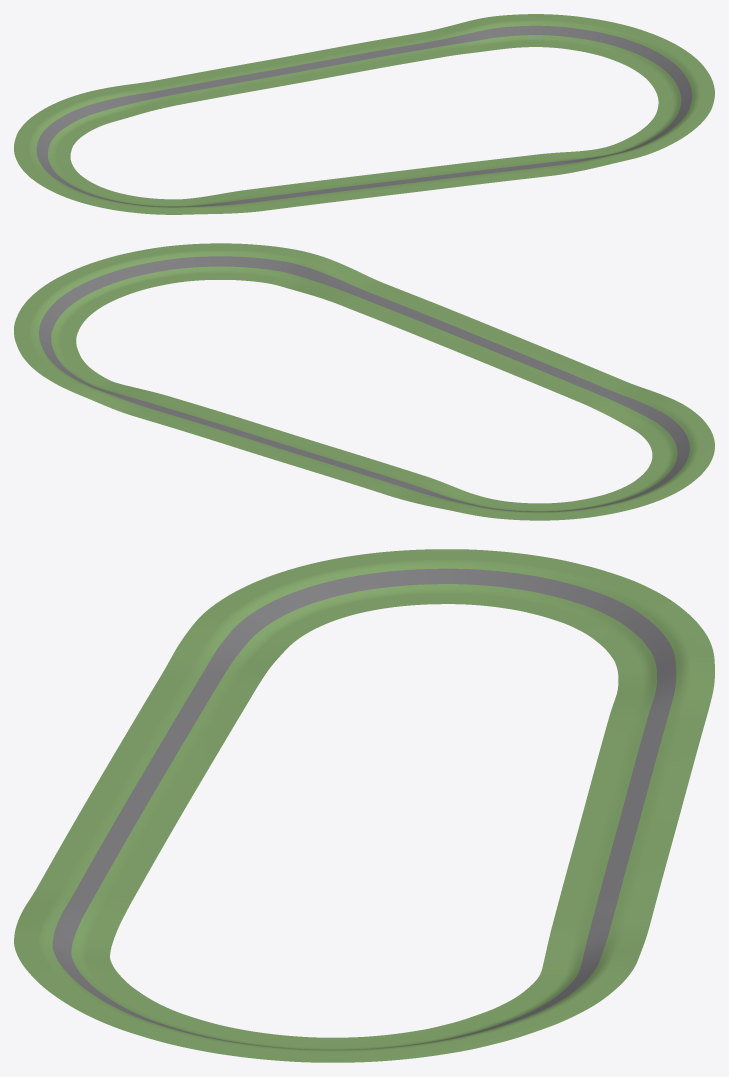
The model's file is road_mesh.glb.
The picture shows the model from 3 angles, top to bottom: view 1: azimuth 30°, elevation 25°; view 2: azimuth 150°, elevation 25°; view 3: azimuth 270°, elevation 25°; orthographic projection. The views are drawn at different scales.
Parts seen in each view (by area): view 1: road_04, road_03, road_07, road_08, road_05, road_06, road_11, road_00, road_02, road_01, road_09, road_10; view 2: road_02, road_01, road_03, road_10, road_11, road_00, road_06, road_05, road_09, road_07, road_04, road_08; view 3: road_09, road_08, road_10, road_00, road_11, road_06, road_05, road_07, road_01, road_04, road_02, road_03.
Boxes of the visible parts, x1,y1,x2,y2 form: road_04: [459, 14, 616, 52]; road_03: [590, 23, 710, 90]; road_07: [74, 71, 226, 123]; road_08: [14, 96, 107, 164]; road_05: [332, 24, 480, 72]; road_06: [204, 48, 354, 95]; road_11: [257, 172, 406, 209]; road_00: [391, 156, 540, 192]; road_02: [632, 77, 714, 141]; road_01: [525, 136, 675, 176]; road_09: [16, 158, 139, 211]; road_10: [122, 188, 272, 214]; road_02: [84, 243, 249, 295]; road_01: [241, 244, 393, 308]; road_03: [14, 266, 125, 343]; road_10: [572, 377, 711, 445]; road_11: [461, 332, 615, 398]; road_00: [350, 287, 504, 353]; road_06: [219, 423, 379, 480]; road_05: [97, 387, 255, 441]; road_09: [612, 431, 714, 502]; road_07: [342, 461, 499, 515]; road_04: [14, 333, 133, 401]; road_08: [476, 492, 651, 520]; road_09: [267, 549, 536, 621]; road_08: [505, 556, 711, 666]; road_10: [157, 577, 330, 695]; road_00: [43, 779, 194, 890]; road_11: [100, 682, 251, 792]; road_06: [571, 754, 695, 855]; road_05: [545, 853, 668, 957]; road_07: [599, 646, 714, 755]; road_01: [14, 877, 137, 983]; road_04: [449, 949, 641, 1042]; road_02: [35, 975, 260, 1055]; road_03: [231, 1024, 497, 1062].
Bounding box in the file's own units: 946 × 14.78 × 544.
